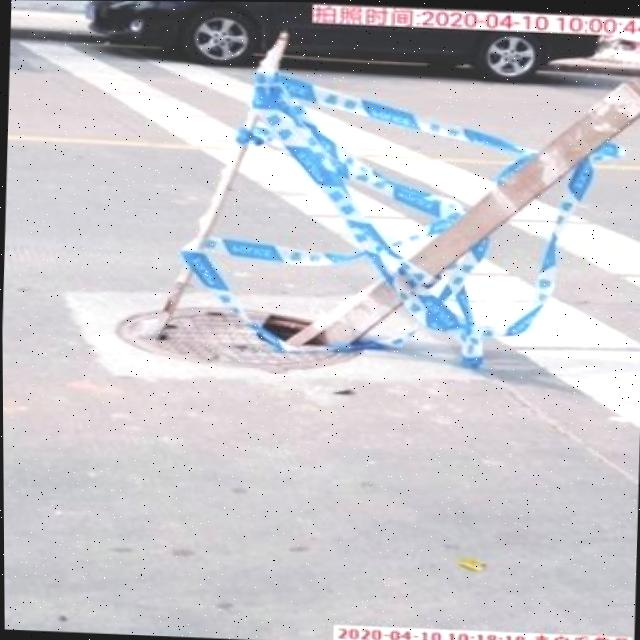manhole: (118, 290, 363, 374)
